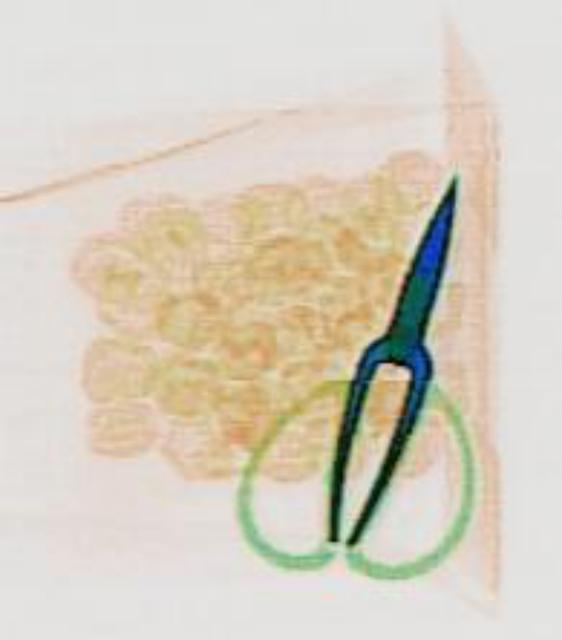Scissors: (218, 137, 556, 616)
